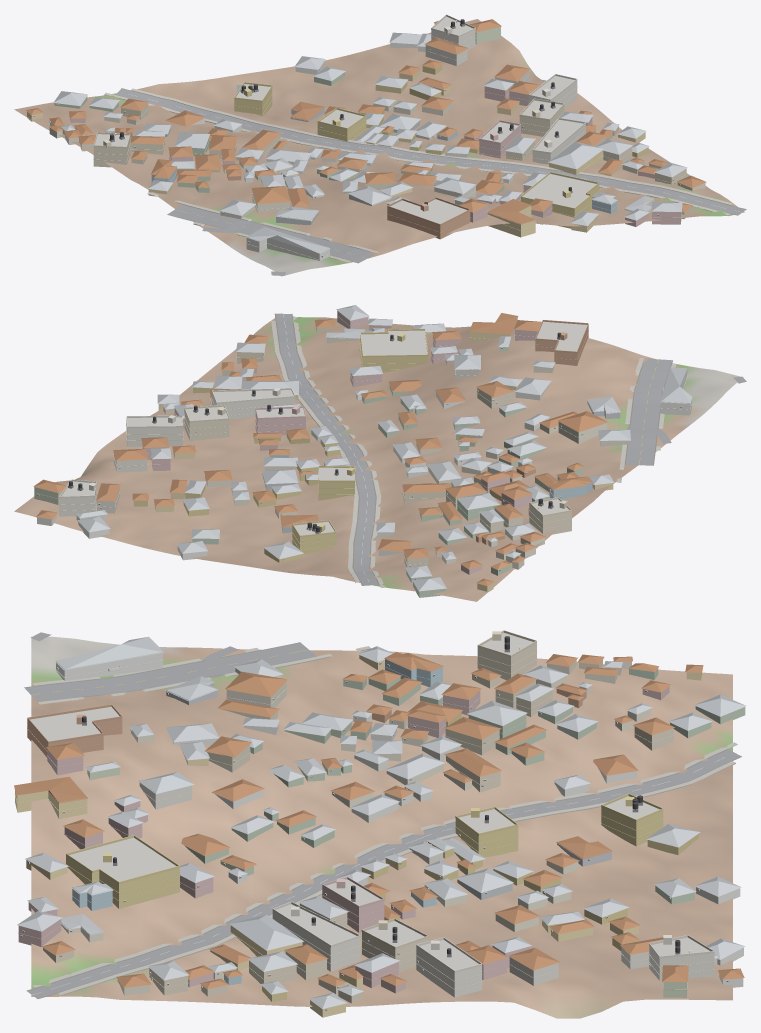
3 renders of one model, top to bottom at view 1: azimuth 30°, elevation 25°; view 2: azimuth 150°, elevation 25°; view 3: azimuth 270°, elevation 25°, orthographic. The views are drawn at different scales.
Visible parts, largest first — view 1: Buildings-col, Terrain-col, Roads-col, Details, Sidewalks-col; view 2: Terrain-col, Buildings-col, Roads-col, Details, Sidewalks-col; view 3: Terrain-col, Buildings-col, Roads-col, Details, Sidewalks-col.
Boxes of the visible parts, box(x1,y1,x2,y2) form: Buildings-col: box(26, 16, 706, 260); Terrain-col: box(14, 19, 744, 276); Roads-col: box(116, 88, 746, 275); Details: box(33, 14, 686, 260); Sidewalks-col: box(104, 88, 732, 262); Terrain-col: box(14, 313, 743, 601); Buildings-col: box(33, 305, 692, 597); Roads-col: box(274, 313, 746, 585); Details: box(34, 316, 692, 579); Sidewalks-col: box(271, 317, 676, 587); Terrain-col: box(31, 636, 732, 1018); Buildings-col: box(14, 633, 746, 1017); Roads-col: box(24, 632, 741, 998); Details: box(14, 630, 728, 1010); Sidewalks-col: box(32, 646, 737, 995).
Bounding box in the file's own units: 270 × 44.7 × 268.
